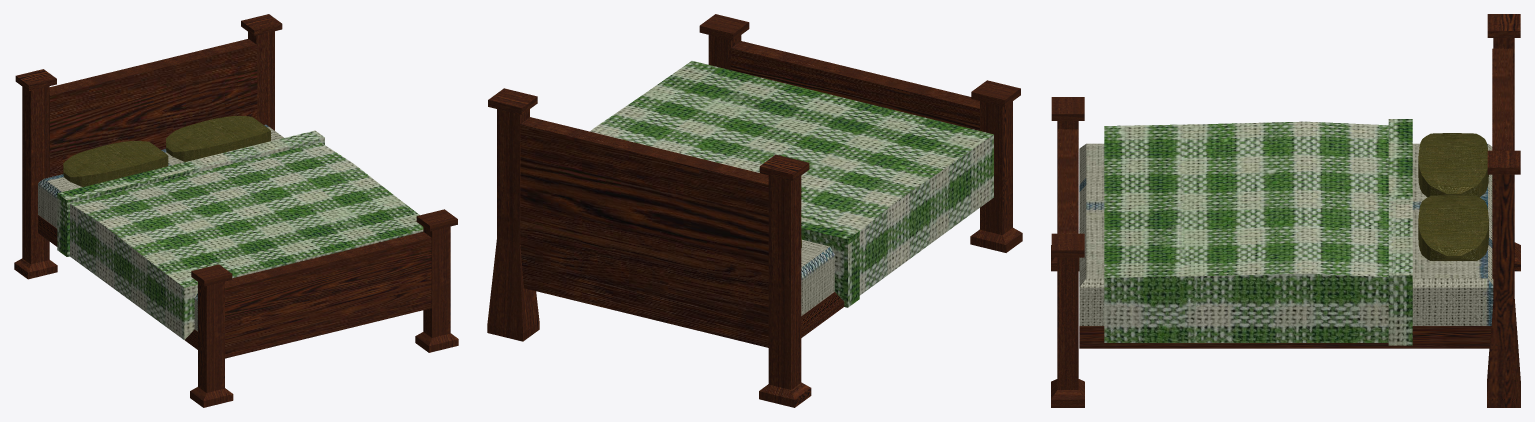
Rendered from SM_Prop_Bed_01.fbx.
3 views of the same model, side by side, from view 1: azimuth 30°, elevation 25°; view 2: azimuth 150°, elevation 25°; view 3: azimuth 270°, elevation 25° (orthographic). The views are drawn at different scales.
Visible parts, largest first — view 1: Plane, Cube.005, Cube.004, Cube.003, Cube.001, Cube, Cube.008, Cube.009, Cube.002, Cube.007, Cube.006; view 2: Cube.004, Plane, Cube.003, Cube.005, Cube.002, Cube.001, Cube.007, Cube, Cube.006; view 3: Plane, Cube.007, Cube.002, Cube, Cube.009, Cube.008, Cube.006, Cube.004, Cube.005, Cube.003, Cube.001.
Part boxes in pixels (<box>): Plane: <box>57,130,423,339</box>; Cube.005: <box>225,231,431,358</box>; Cube.004: <box>49,38,257,177</box>; Cube.003: <box>14,69,57,279</box>; Cube.001: <box>190,264,233,407</box>; Cube: <box>415,209,458,352</box>; Cube.008: <box>63,141,168,186</box>; Cube.009: <box>166,115,270,161</box>; Cube.002: <box>241,14,282,130</box>; Cube.007: <box>38,124,283,331</box>; Cube.006: <box>38,215,197,349</box>; Cube.004: <box>520,117,768,347</box>; Plane: <box>590,61,993,307</box>; Cube.003: <box>759,154,811,407</box>; Cube.005: <box>731,41,979,130</box>; Cube.002: <box>487,88,539,341</box>; Cube.001: <box>970,80,1022,252</box>; Cube.007: <box>801,239,834,315</box>; Cube: <box>699,14,749,69</box>; Cube.006: <box>801,292,844,337</box>; Plane: <box>1104,119,1412,345</box>; Cube.007: <box>1079,143,1493,325</box>; Cube.002: <box>1487,150,1520,407</box>; Cube: <box>1051,233,1084,407</box>; Cube.009: <box>1418,195,1488,260</box>; Cube.008: <box>1418,133,1488,197</box>; Cube.006: <box>1079,326,1491,348</box>; Cube.004: <box>1492,48,1512,278</box>; Cube.005: <box>1058,129,1078,233</box>; Cube.003: <box>1487,14,1520,271</box>; Cube.001: <box>1051,97,1084,271</box>.
Bounding box in the file's own units: 212 × 152 × 269.
